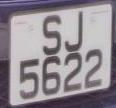2: (62, 49, 85, 99), (82, 47, 106, 90)
5: (16, 54, 42, 105)
6: (39, 55, 64, 100)
J: (63, 9, 88, 56)
S: (40, 13, 65, 60)
